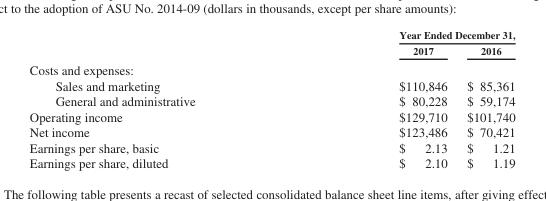table: (28, 28, 514, 170)
table column: (28, 28, 296, 170), (296, 28, 456, 170), (456, 28, 514, 170)
table column header: (28, 28, 514, 59)
table projected row header: (28, 59, 514, 77)
table row: (28, 59, 514, 77), (28, 42, 514, 59), (28, 77, 514, 93), (28, 108, 514, 124), (28, 139, 514, 155), (28, 93, 514, 108), (28, 124, 514, 139), (28, 155, 514, 170), (28, 28, 514, 42)
table spanning cell: (296, 28, 514, 42)
